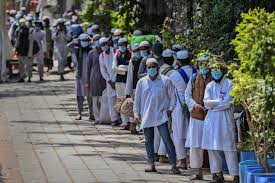mask: (145, 59, 158, 77), (211, 60, 222, 81), (195, 57, 207, 75), (117, 38, 129, 52), (139, 42, 150, 57), (99, 36, 110, 51), (79, 32, 90, 47), (130, 42, 138, 57), (34, 21, 42, 31), (93, 35, 99, 47)
